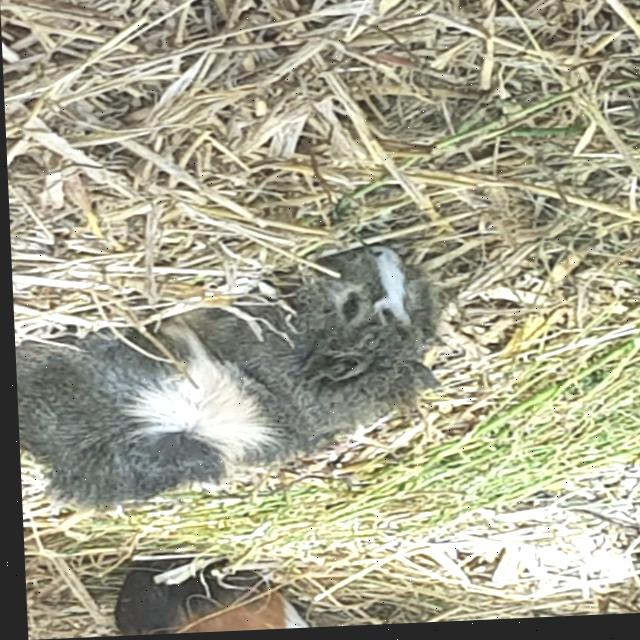guinea pig: (9, 240, 452, 517), (83, 551, 374, 638)
